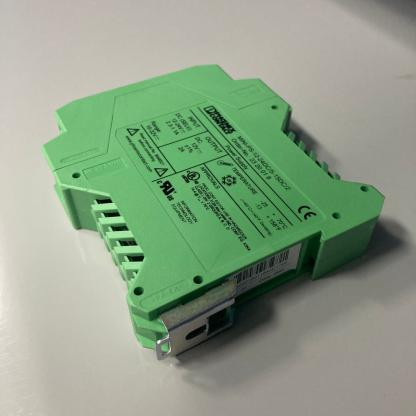SP0000011: (36, 33, 416, 381)
